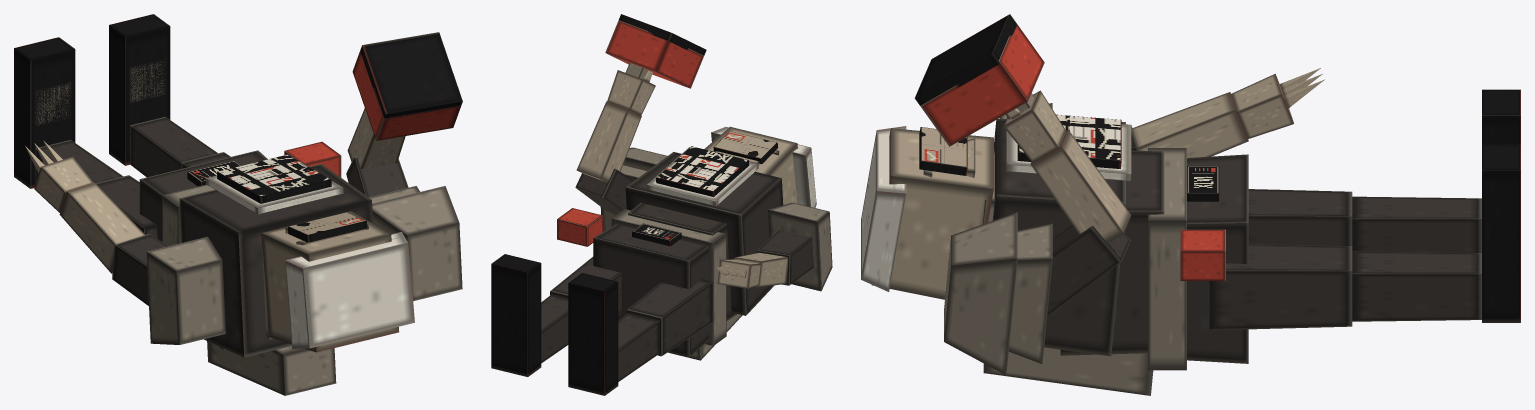
Rendered from exceptor_neutral.obj.
3 renders of one model, left to right at view 1: azimuth 30°, elevation 25°; view 2: azimuth 150°, elevation 25°; view 3: azimuth 270°, elevation 25°, orthographic. The views are drawn at different scales.
Visible parts, largest first — view 1: exceptor_neutral; view 2: exceptor_neutral; view 3: exceptor_neutral.
Part boxes in pixels (x1,y1,x2,y2): exceptor_neutral: (14, 14, 462, 395); exceptor_neutral: (491, 14, 832, 395); exceptor_neutral: (861, 14, 1520, 395).
Size of the model in its own units: 0.6172 by 0.6708 by 1.
1 material, 1 textured.
